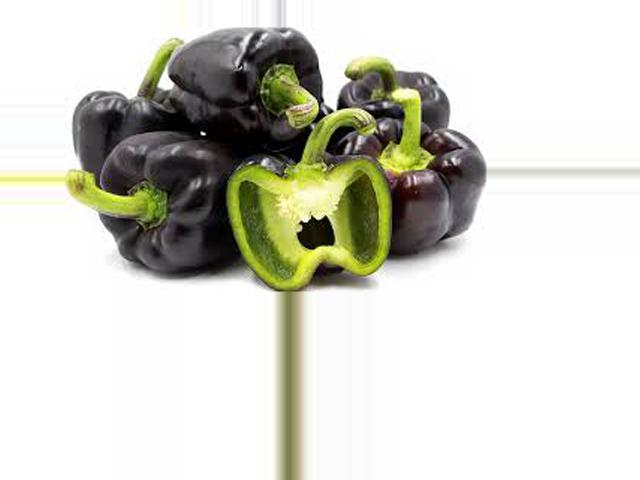bell_pepper: (311, 118, 481, 246)
